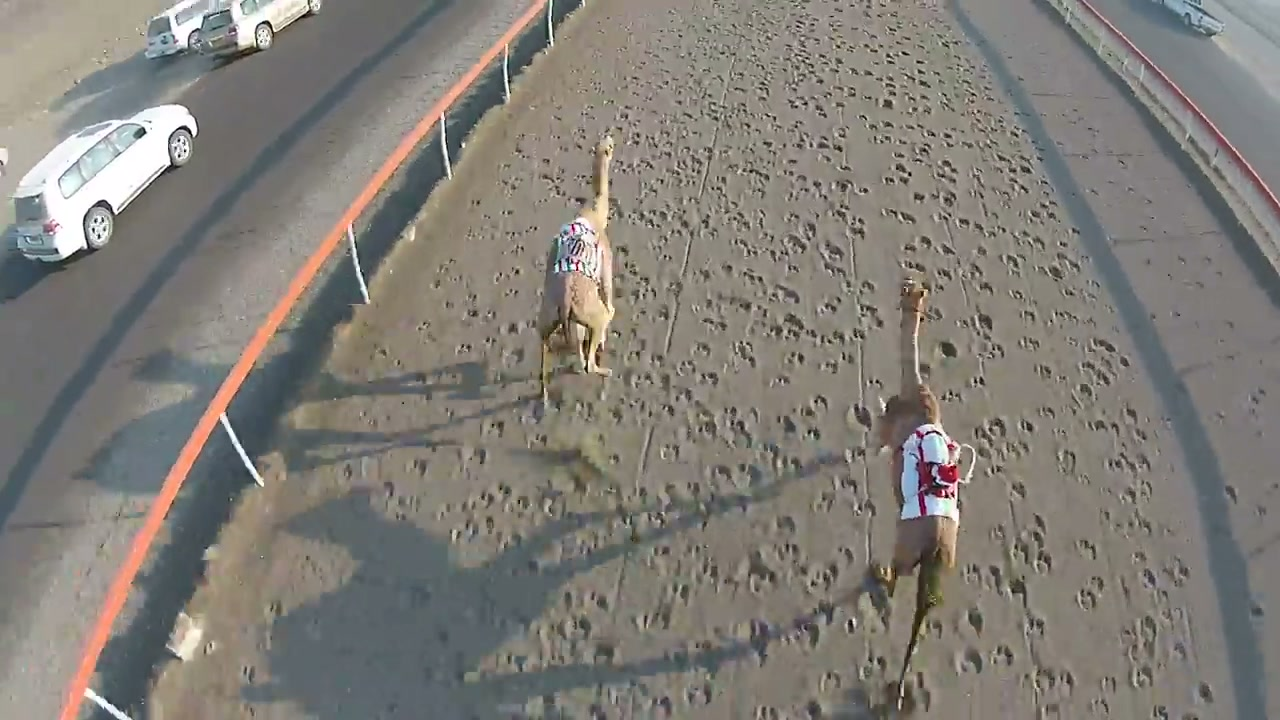animal_footprint: (880, 32, 1084, 711), (515, 69, 729, 664), (720, 50, 910, 719)
